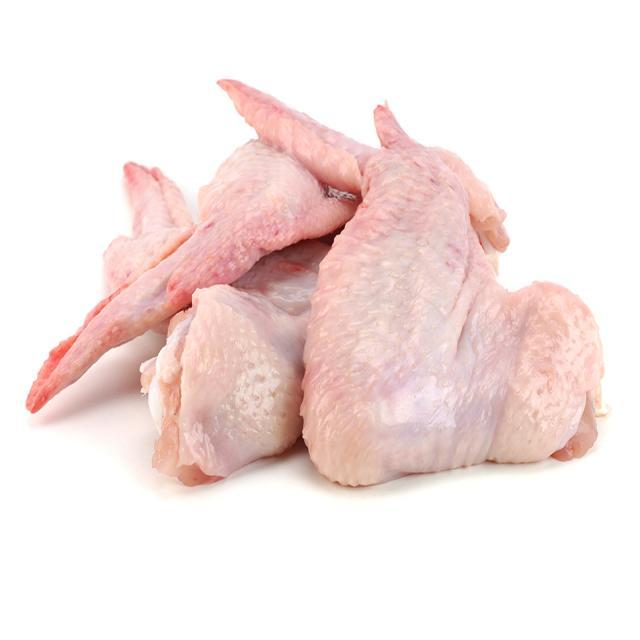wing: (238, 82, 613, 488), (19, 124, 314, 376), (103, 148, 316, 476)
